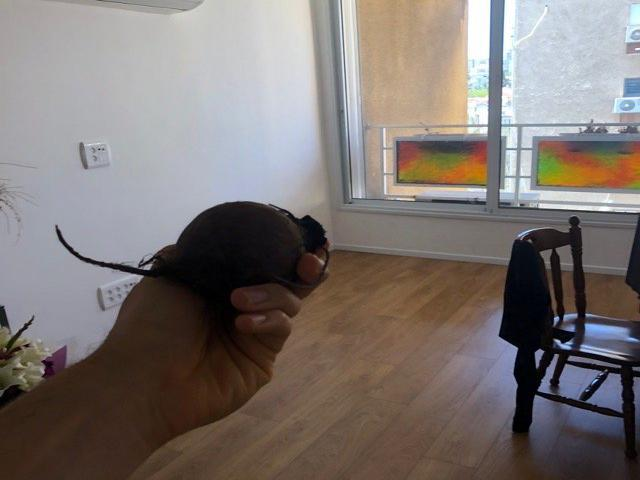beet: (57, 202, 331, 292)
